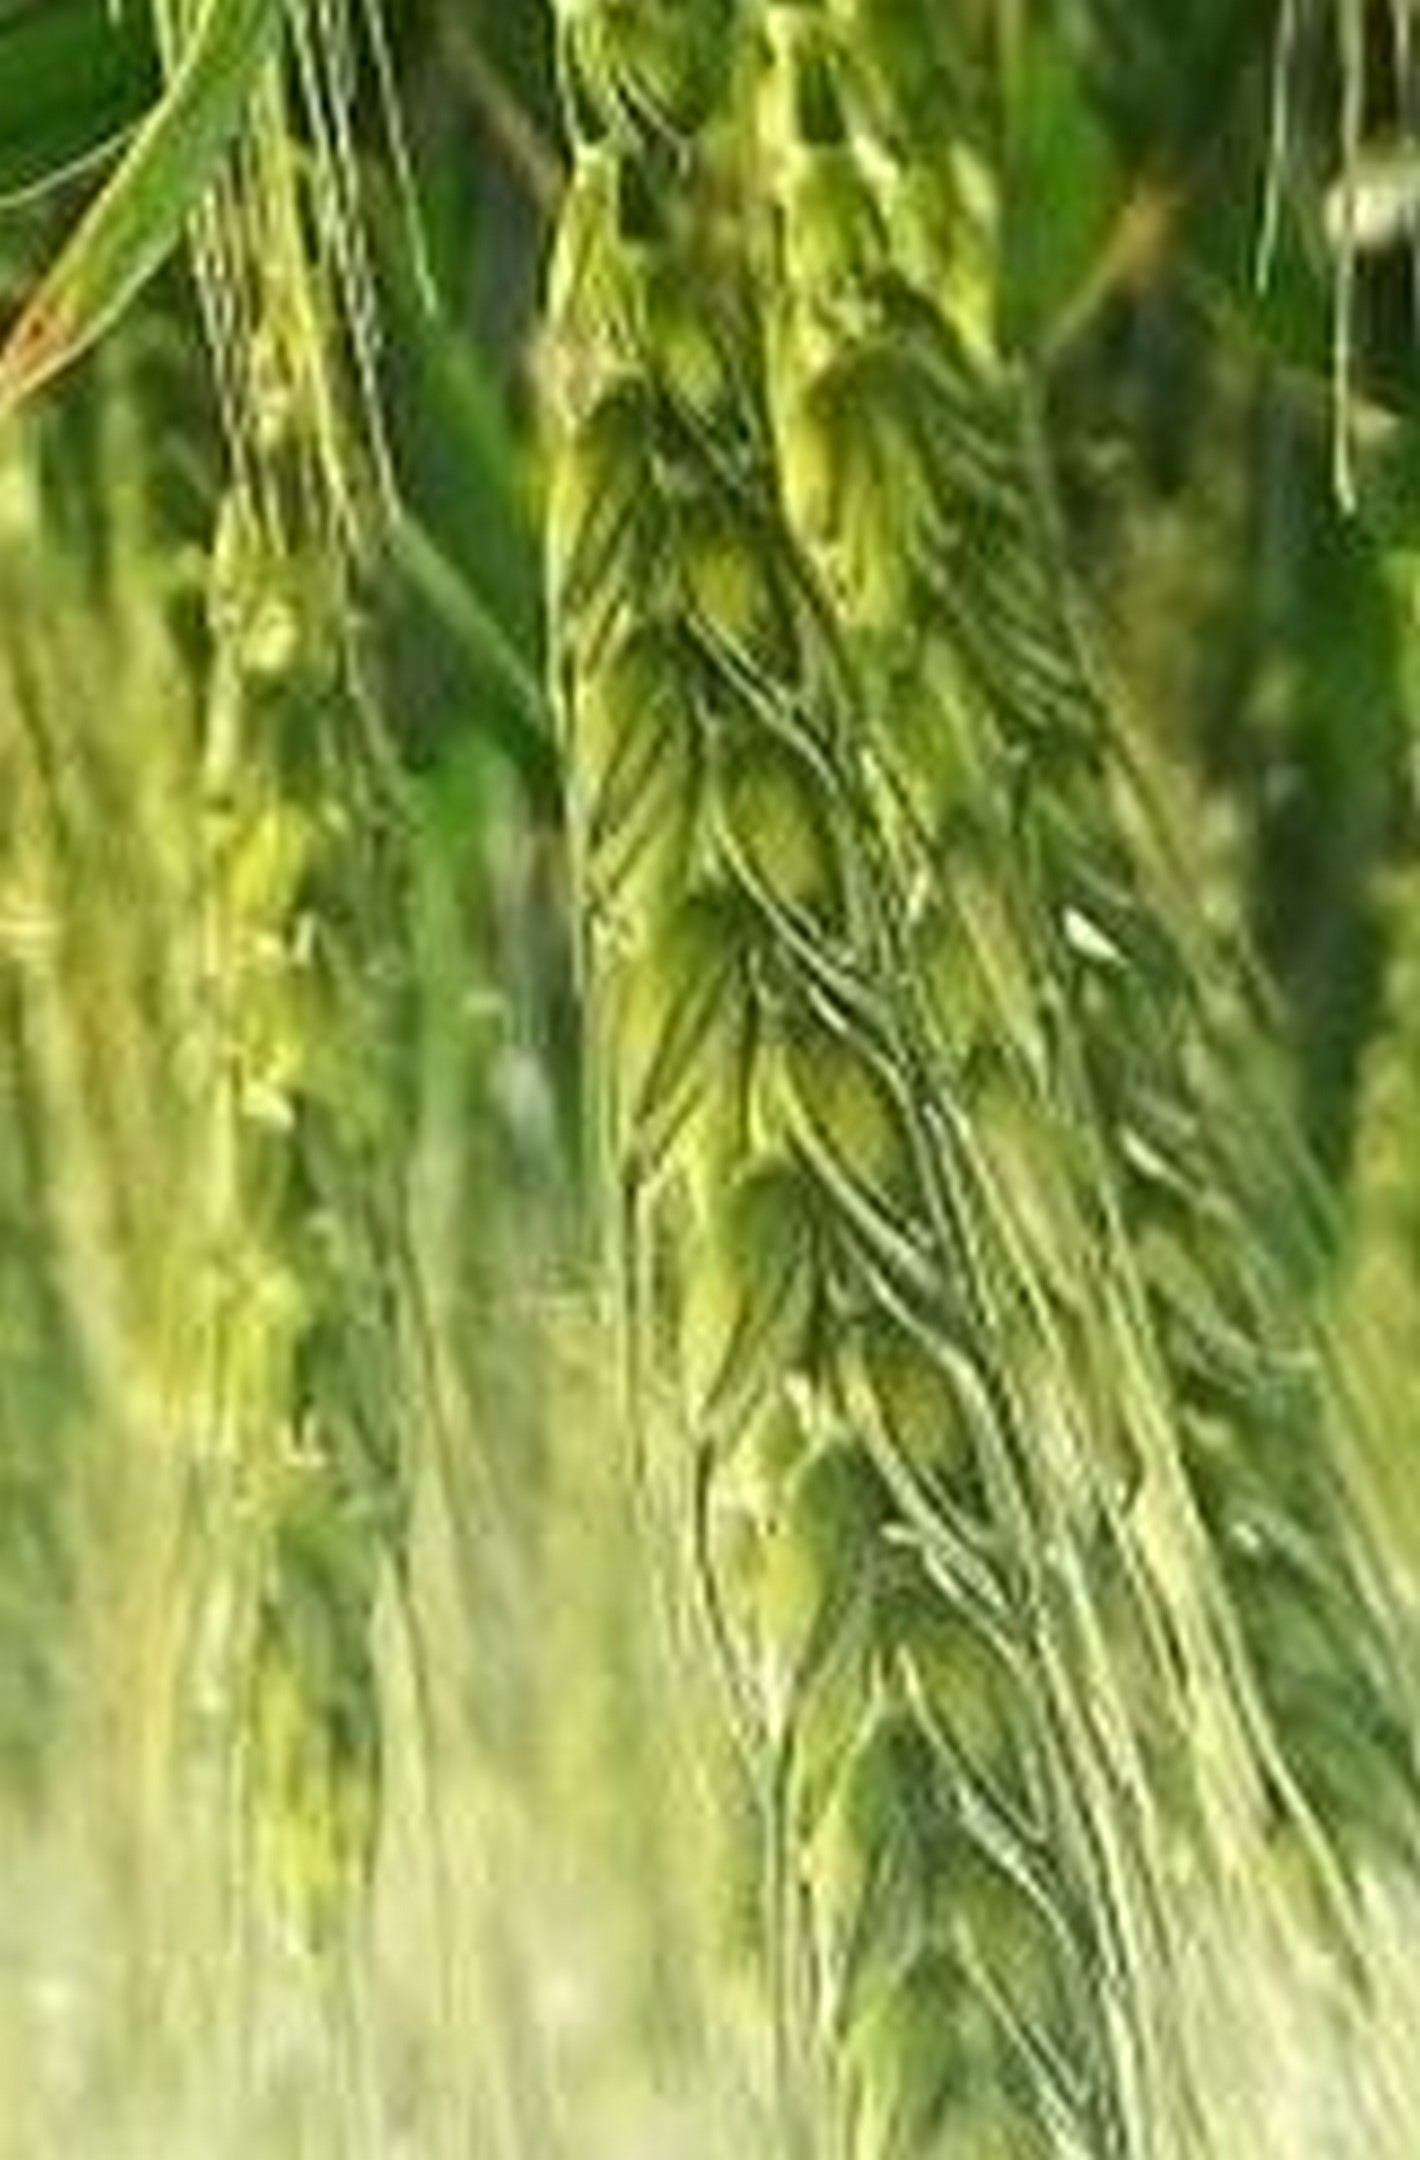Healthy Wheat: (499, 181, 1100, 2160)
